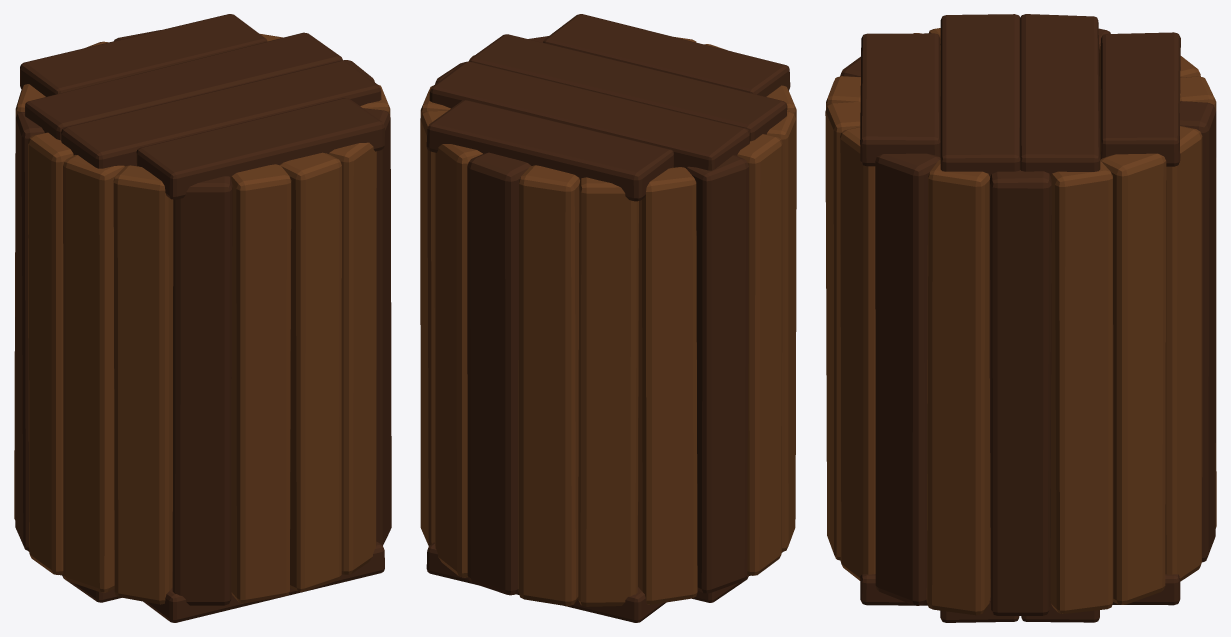
Rendered from barrel_flammable_fractured.glb.
3 renders of one model, left to right at view 1: azimuth 30°, elevation 25°; view 2: azimuth 150°, elevation 25°; view 3: azimuth 270°, elevation 25°, orthographic. The views are drawn at different scales.
Parts seen in each view (by area): view 1: BarrelStaveFragment-rigid.013, BarrelStaveFragment-rigid.011, BarrelStaveFragment-rigid.012, BarrelStaveFragment-rigid.014, BarrelStaveFragment-rigid.010, BarrelStaveFragment-rigid.009, BarrelStaveFragment-rigid.015, BarrelTopFragment-rigid.001, BarrelTopFragment-rigid, BarrelTopFragment-rigid.002, BarrelTopFragment-rigid.003, BarrelStaveFragment-rigid.016 (+3 smaller); view 2: BarrelStaveFragment-rigid.005, BarrelStaveFragment-rigid.006, BarrelStaveFragment-rigid.007, BarrelStaveFragment-rigid.004, BarrelStaveFragment-rigid.008, BarrelStaveFragment-rigid.009, BarrelStaveFragment-rigid.003, BarrelTopFragment-rigid.002, BarrelTopFragment-rigid.003, BarrelTopFragment-rigid.001, BarrelTopFragment-rigid, BarrelStaveFragment-rigid.002 (+3 smaller); view 3: BarrelStaveFragment-rigid.017, BarrelStaveFragment-rigid.001, BarrelStaveFragment-rigid, BarrelStaveFragment-rigid.002, BarrelStaveFragment-rigid.016, BarrelStaveFragment-rigid.003, BarrelStaveFragment-rigid.015, BarrelTopFragment-rigid.001, BarrelTopFragment-rigid.002, BarrelTopFragment-rigid, BarrelTopFragment-rigid.003, BarrelStaveFragment-rigid.014 (+7 smaller).
Boxes of the visible parts, x1=… form: BarrelStaveFragment-rigid.013: x1=231, y1=164, x2=291, y2=603; BarrelStaveFragment-rigid.011: x1=113, y1=165, x2=173, y2=604; BarrelStaveFragment-rigid.012: x1=172, y1=176, x2=232, y2=605; BarrelStaveFragment-rigid.014: x1=280, y1=152, x2=341, y2=591; BarrelStaveFragment-rigid.010: x1=63, y1=155, x2=124, y2=592; BarrelStaveFragment-rigid.009: x1=28, y1=132, x2=73, y2=574; BarrelStaveFragment-rigid.015: x1=329, y1=142, x2=376, y2=574; BarrelTopFragment-rigid.001: x1=61, y1=60, x2=381, y2=168; BarrelTopFragment-rigid: x1=136, y1=98, x2=384, y2=199; BarrelTopFragment-rigid.002: x1=25, y1=32, x2=342, y2=140; BarrelTopFragment-rigid.003: x1=20, y1=14, x2=267, y2=96; BarrelStaveFragment-rigid.016: x1=363, y1=108, x2=391, y2=545; BarrelStaveFragment-rigid.005: x1=518, y1=165, x2=579, y2=606; BarrelStaveFragment-rigid.006: x1=578, y1=177, x2=638, y2=606; BarrelStaveFragment-rigid.007: x1=638, y1=167, x2=697, y2=604; BarrelStaveFragment-rigid.004: x1=467, y1=152, x2=531, y2=595; BarrelStaveFragment-rigid.008: x1=686, y1=155, x2=748, y2=593; BarrelStaveFragment-rigid.009: x1=737, y1=134, x2=782, y2=575; BarrelStaveFragment-rigid.003: x1=434, y1=144, x2=482, y2=577; BarrelTopFragment-rigid.002: x1=429, y1=61, x2=749, y2=170; BarrelTopFragment-rigid.003: x1=426, y1=100, x2=673, y2=201; BarrelTopFragment-rigid.001: x1=468, y1=34, x2=787, y2=141; BarrelTopFragment-rigid: x1=543, y1=14, x2=790, y2=96; BarrelStaveFragment-rigid.002: x1=420, y1=110, x2=448, y2=546; BarrelStaveFragment-rigid.017: x1=926, y1=159, x2=990, y2=615; BarrelStaveFragment-rigid.001: x1=1050, y1=161, x2=1113, y2=613; BarrelStaveFragment-rigid: x1=989, y1=170, x2=1051, y2=615; BarrelStaveFragment-rigid.002: x1=1100, y1=153, x2=1166, y2=604; BarrelStaveFragment-rigid.016: x1=875, y1=153, x2=940, y2=605; BarrelStaveFragment-rigid.003: x1=1165, y1=126, x2=1202, y2=581; BarrelStaveFragment-rigid.015: x1=840, y1=127, x2=875, y2=580; BarrelTopFragment-rigid.001: x1=940, y1=14, x2=1020, y2=176; BarrelTopFragment-rigid.002: x1=1020, y1=14, x2=1100, y2=175; BarrelTopFragment-rigid: x1=860, y1=33, x2=940, y2=166; BarrelTopFragment-rigid.003: x1=1101, y1=32, x2=1180, y2=166; BarrelStaveFragment-rigid.014: x1=825, y1=101, x2=860, y2=560.
Size of the model in its own units: 0.7323 by 0.9743 by 0.7351.
